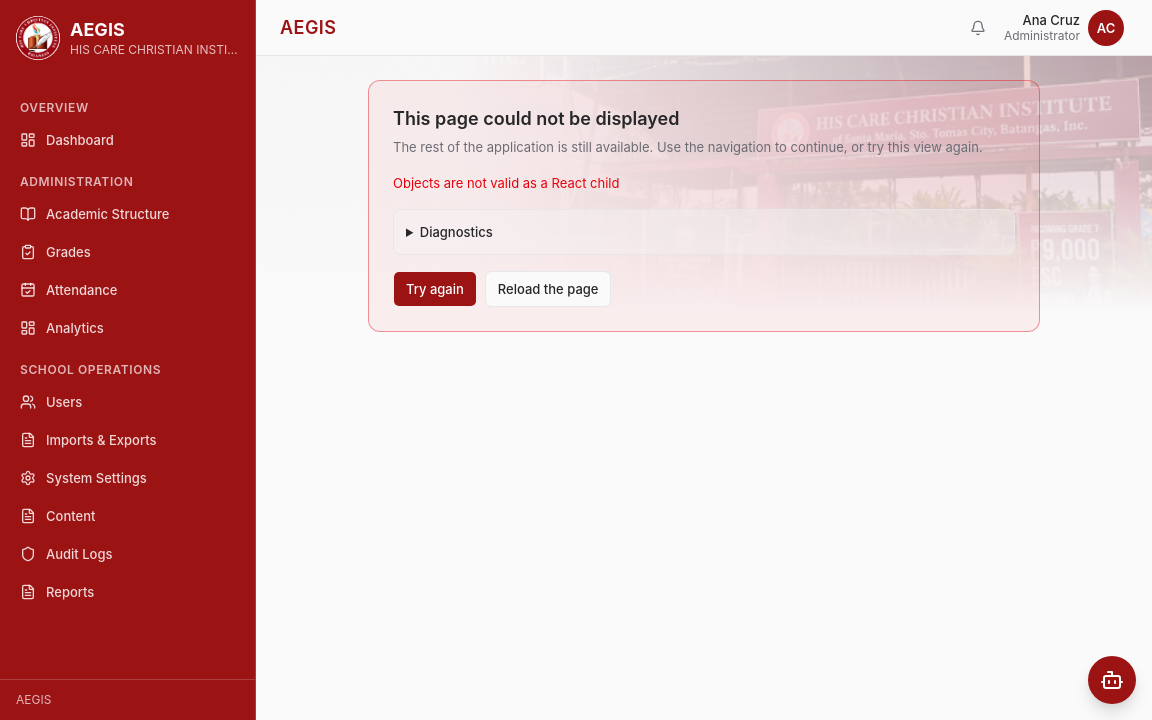
a page render failure does not unmount the shell › keeps navigation mounted and offers recovery
The image size is (1152, 720).
Expected: the message is shown, [368,80,1040,332]
Expected: the navigation bar is shown, [20,100,169,600]
// And navigating to a healthy route clears the error with no reload.
Click the link "Dashboard": (67, 140) [20,132,114,148]
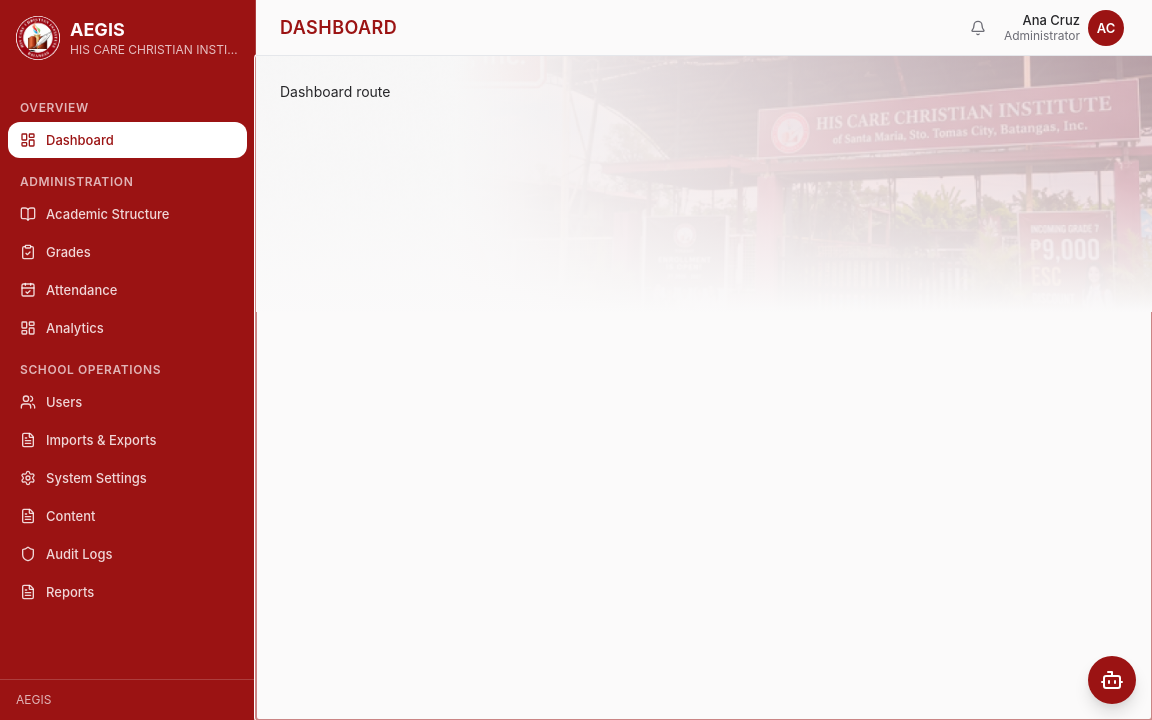
Now the text "Dashboard route" is shown, box [280,83,390,100]
Now the message is gone
